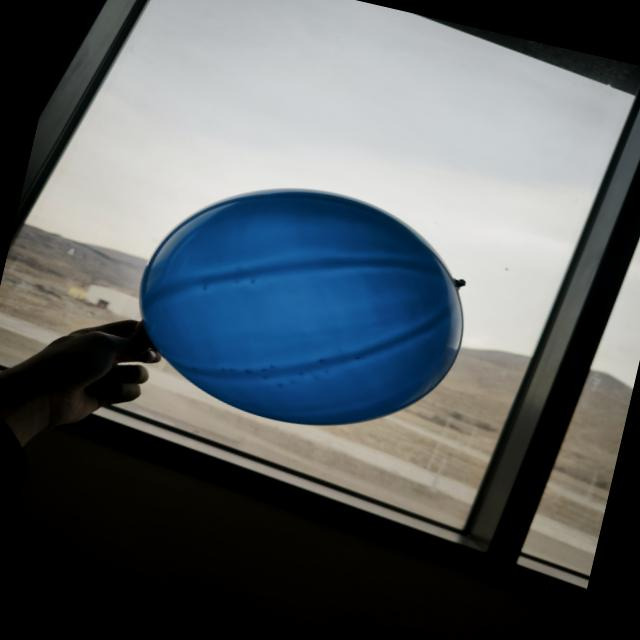balloon: (140, 190, 462, 424)
